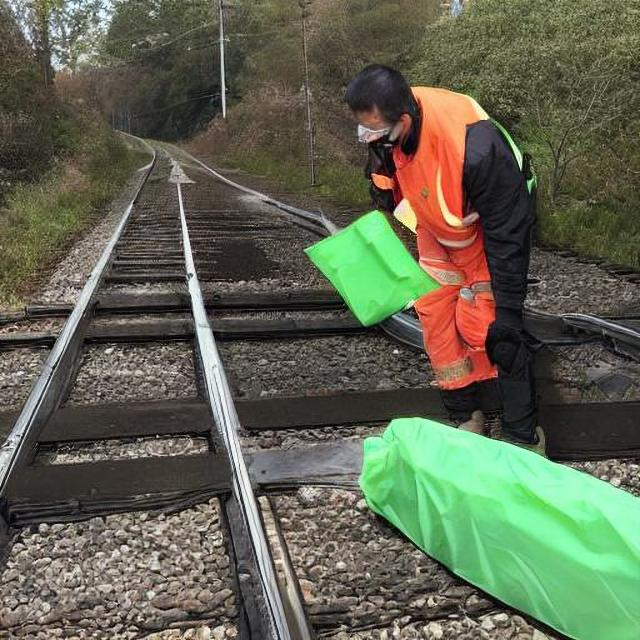plastic bag: (359, 415, 636, 631), (304, 201, 434, 329)
